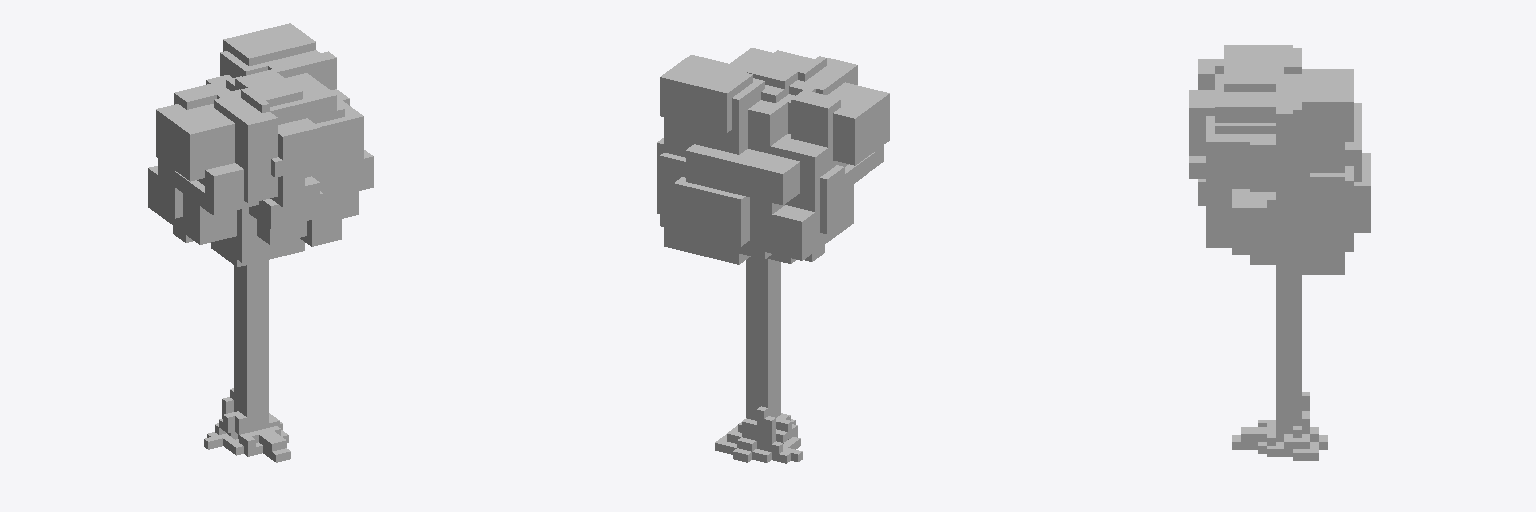
File: tree.obj
3 views of the same model, side by side, from view 1: azimuth 30°, elevation 25°; view 2: azimuth 150°, elevation 25°; view 3: azimuth 270°, elevation 25° (orthographic).
Visible parts, largest first — view 1: object 1; view 2: object 1; view 3: object 1.
Part boxes in pixels (left/top/right/bottom): object 1: left=148, top=23, right=373, bottom=462; object 1: left=657, top=48, right=889, bottom=463; object 1: left=1189, top=45, right=1370, bottom=460.
Size of the model in its own units: 2.5 by 4.8 by 2.1.